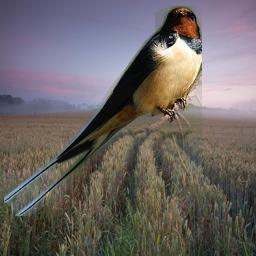Swallow: (4, 6, 202, 216)
